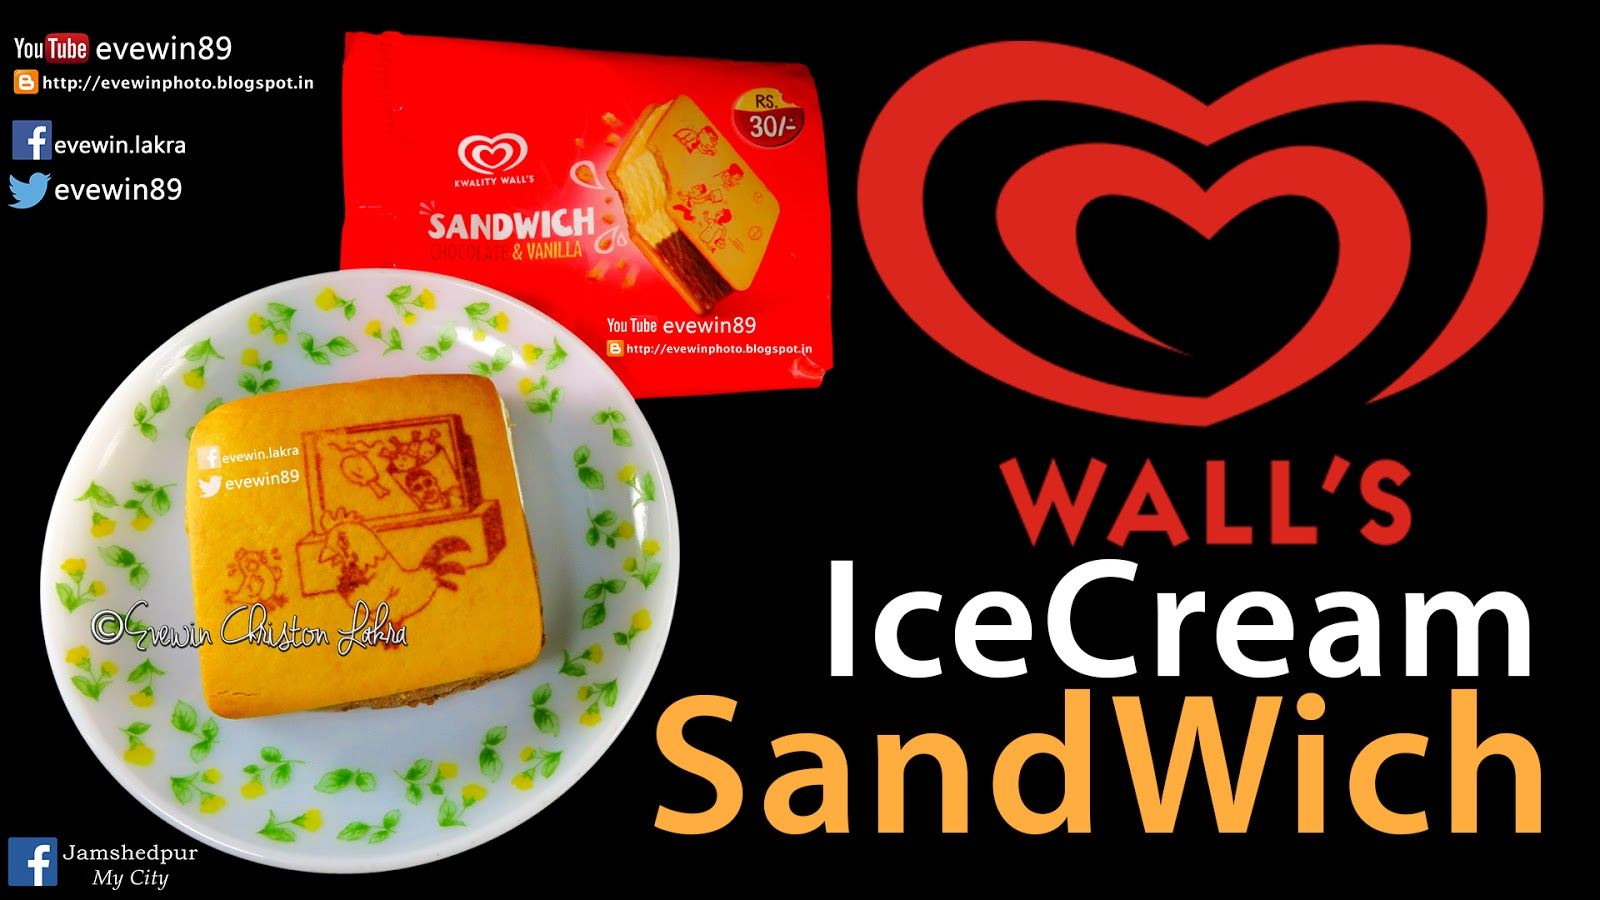Kwality_Walls: (835, 27, 1546, 434), (438, 124, 538, 193)
